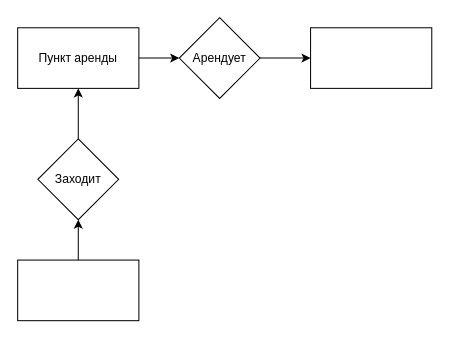
Some shapes in this 449 by 338 pixel diagram are drawn without their labels. The centre of each missing label's shape, as x and y in pixels:
"Клиент" belongs at pixel 78 290.
"Транспорт" belongs at pixel 371 57.
